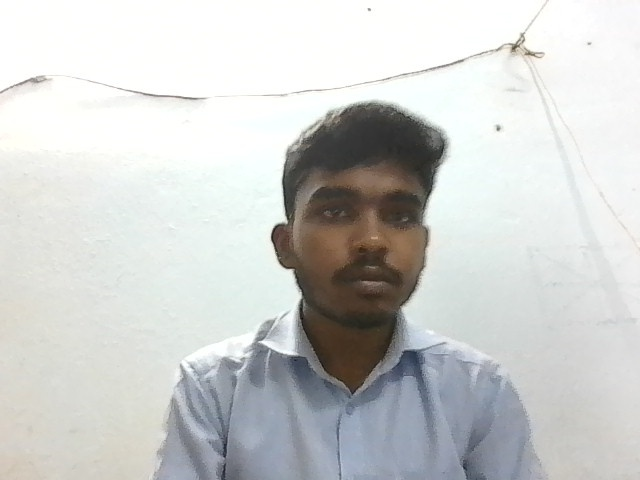real: (270, 93, 441, 336)
